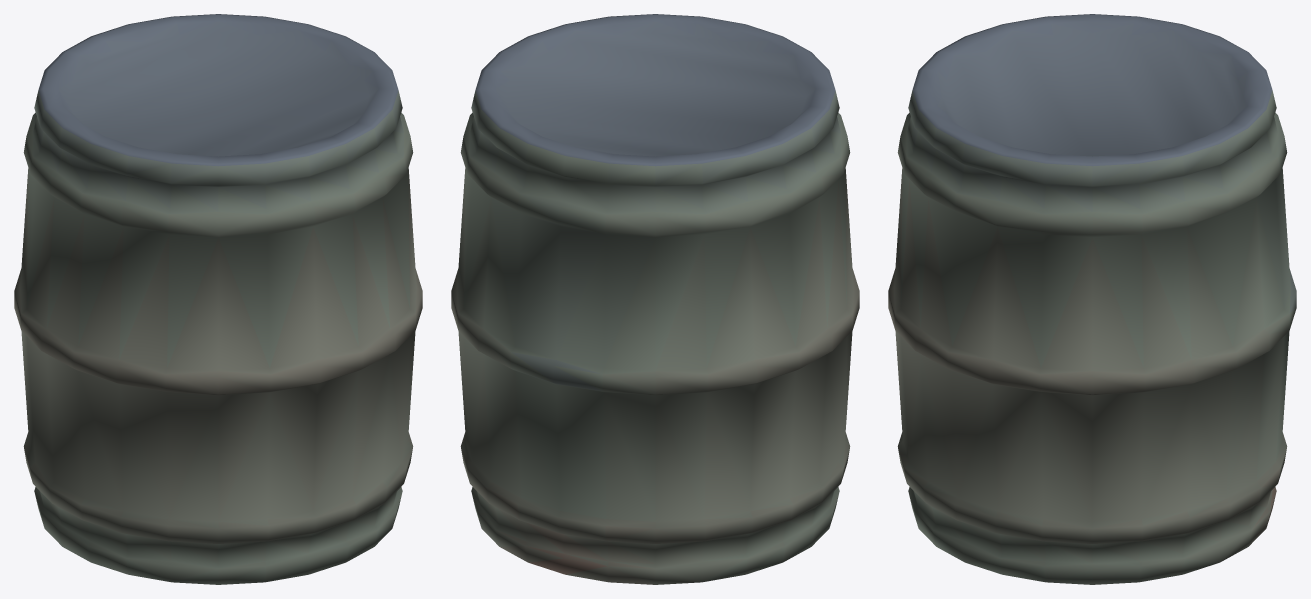
File: barrel_01.fbx
3 views of the same model, side by side, from view 1: azimuth 30°, elevation 25°; view 2: azimuth 150°, elevation 25°; view 3: azimuth 270°, elevation 25° (orthographic).
Parts seen in each view (by area): view 1: barrel_01; view 2: barrel_01; view 3: barrel_01.
Part boxes in pixels (left/top/right/bottom): barrel_01: left=14, top=14, right=422, bottom=584; barrel_01: left=451, top=14, right=859, bottom=584; barrel_01: left=888, top=14, right=1296, bottom=584.
Bounding box in the file's own units: 211 × 240 × 211.
